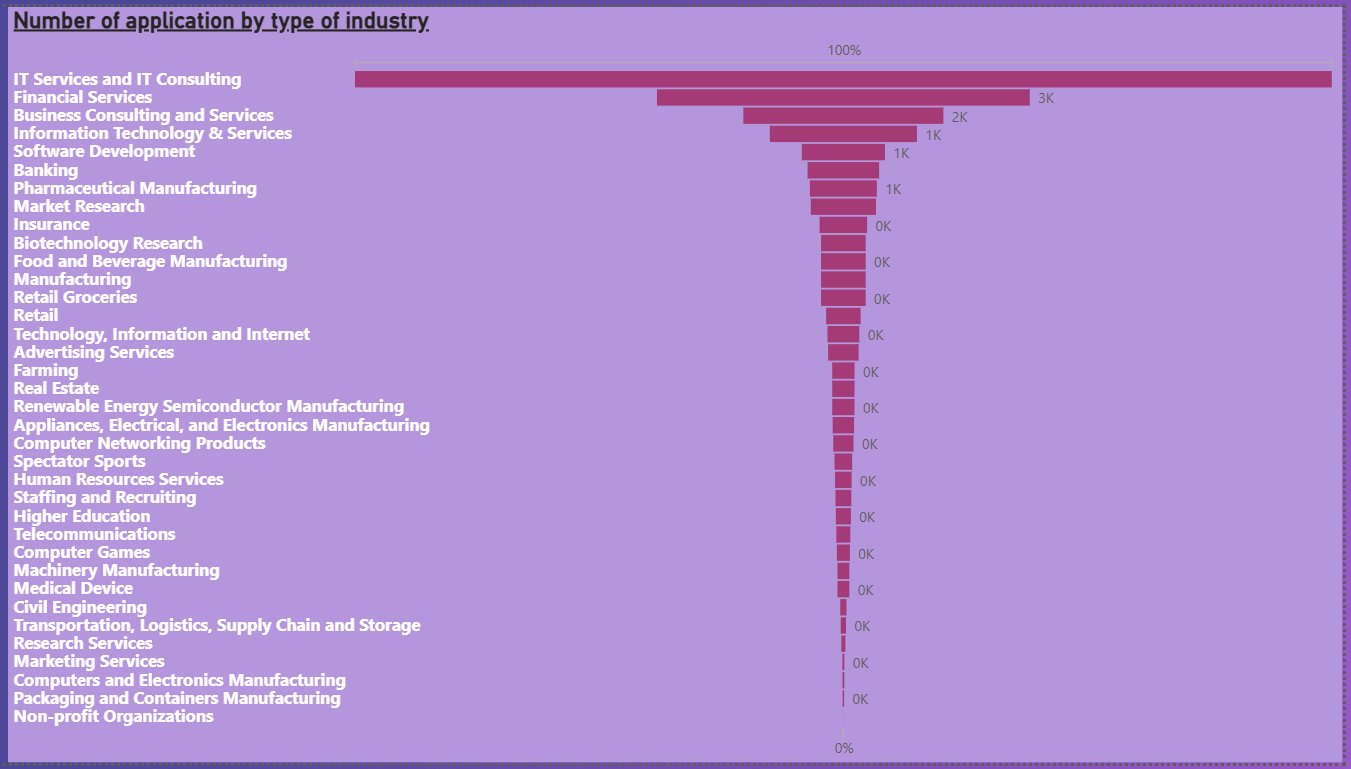

The dashboard page shown, as its layout file describes it:
{"tool":"powerbi","page":{"name":"Page 5","canvas":[1280,720],"ordinal":4},"visuals":[{"type":"funnel","title":"Numner of application by type of industry","fields":{"Category":["linkdin_Job_data.type_of_industry"],"Y":["Sum(linkdin_Job_data.no_of_application)"]},"box":[9.1,0,1270.4,719.2],"z":0}]}

Visuals, with their boxes in screenshot pixels (x1, y1, x2, y2), scaled from the page's 1280x720 canvas onto the 1351x769 screenshot:
"Numner of application by type of industry" funnel: <box>10,0,1350,768</box>
